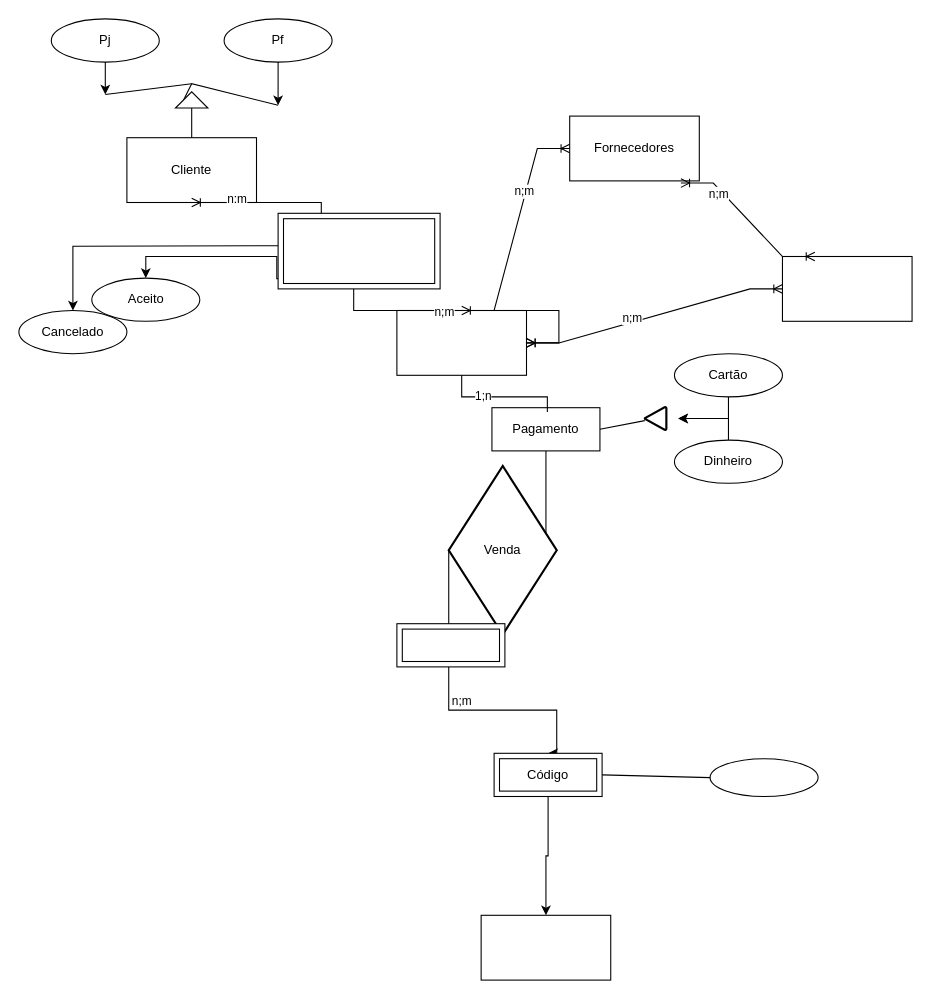
This 931x999 diagram has some shape labels left out. The centre of each missing label's shape, as x and y in pixels:
E.Cliente: the point at 763,777
Entregue: the point at 545,947
Enviar: the point at 450,645
Estoque: the point at 846,288
Pedido: the point at 358,250
Produto: the point at 461,342
